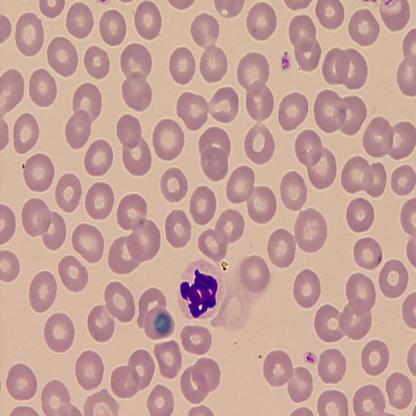Segmented neutrophil: (178, 257, 227, 323)
